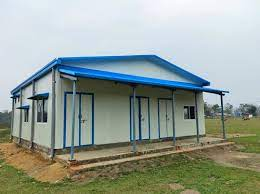Tin-shade House: (6, 53, 231, 158)
